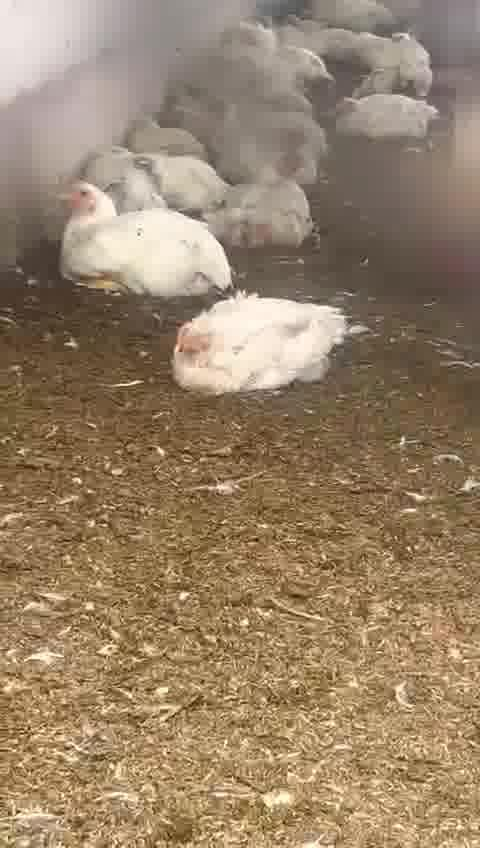AbNormal: (168, 282, 360, 399), (85, 137, 214, 205), (114, 101, 202, 157), (152, 79, 230, 130), (178, 48, 259, 95)
Normal: (49, 178, 228, 300), (218, 155, 318, 251), (326, 87, 445, 144), (241, 103, 339, 170)
